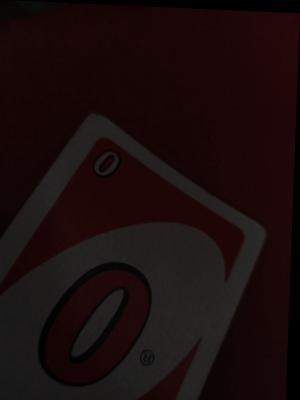num_0: (91, 141, 128, 182)
